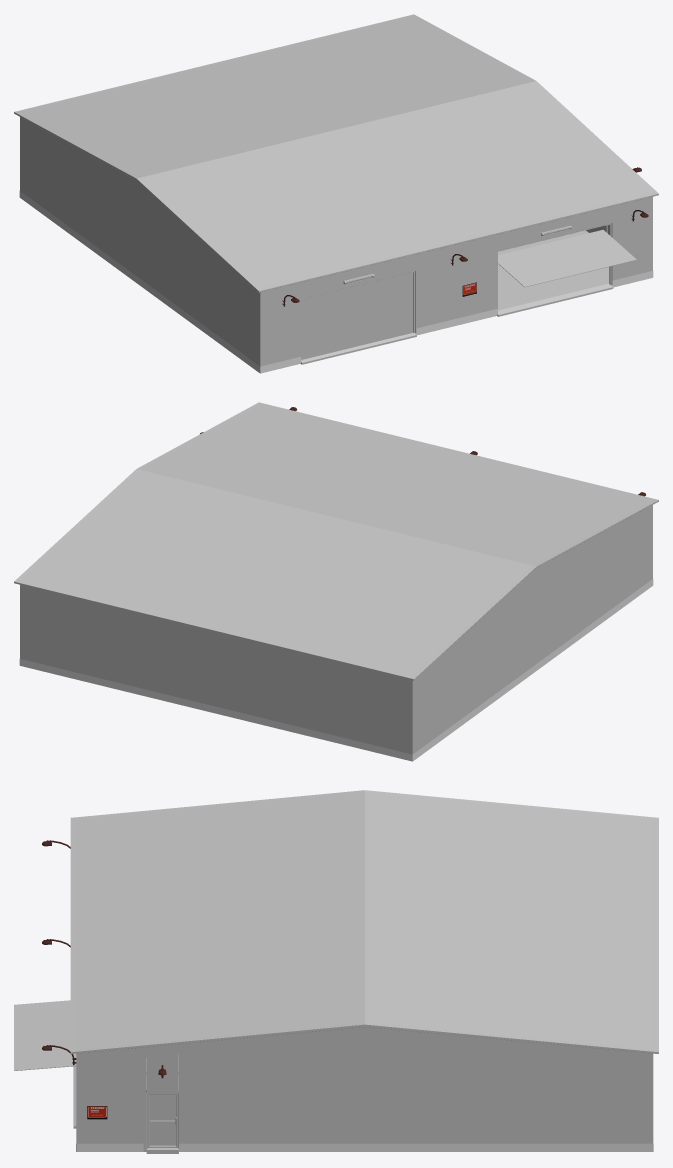
File: defAp.fbx
The picture shows the model from 3 angles, top to bottom: view 1: azimuth 30°, elevation 25°; view 2: azimuth 150°, elevation 25°; view 3: azimuth 270°, elevation 25°; orthographic projection. The views are drawn at different scales.
Visible parts, largest first — view 1: garageRoof, garageRoof.001, small-Garage-Walls.004, small-Garage-Walls.003, garageGate, small-Garage-Walls.025, garageGate.003, small-Garage-Floor.002, Decal-baseboardMoss.001, small-Garage-Walls.015, small-Garage-Walls.017, small-Garage-Walls.002 (+2 smaller); view 2: garageRoof.001, garageRoof, small-Garage-Walls.009, small-Garage-Walls.010, small-Garage-Walls.003, small-Garage-Walls.004, Decal-baseboardMoss.001; view 3: garageRoof, garageRoof.001, small-Garage-Walls.005, small-Garage-Walls.022, small-Garage-Walls.023, Decal-baseboardMoss.001, garageGate.003, ruined door with wire, small-Garage-Walls.019.
Boxes of the visible parts, x1,y1,x2,y2 form: garageRoof: (136,81,658,292); garageRoof.001: (14,14,535,179); small-Garage-Walls.004: (20,117,140,278); small-Garage-Walls.003: (140,184,260,366); garageGate: (301,272,413,359); small-Garage-Walls.025: (415,235,497,333); garageGate.003: (498,229,636,287); small-Garage-Floor.002: (497,239,613,316); Decal-baseboardMoss.001: (19,191,653,373); small-Garage-Walls.015: (260,282,300,366); small-Garage-Walls.017: (611,197,652,285); small-Garage-Walls.002: (497,207,612,250); garageRoof.001: (14,469,536,680); garageRoof: (137,402,658,567); small-Garage-Walls.009: (216,632,412,754); small-Garage-Walls.010: (20,585,216,706); small-Garage-Walls.003: (532,505,652,666); small-Garage-Walls.004: (412,572,532,754); Decal-baseboardMoss.001: (19,579,653,761); garageRoof: (70,790,364,1053); garageRoof.001: (365,790,658,1053); small-Garage-Walls.005: (365,1027,653,1143); small-Garage-Walls.022: (178,1027,364,1148); small-Garage-Walls.023: (76,1047,146,1151); Decal-baseboardMoss.001: (76,1143,653,1151); garageGate.003: (14,1000,76,1070); ruined door with wire: (148,1093,177,1147); small-Garage-Walls.019: (147,1044,178,1092).
Bounding box in the file's own units: 2139 × 526 × 2364.
